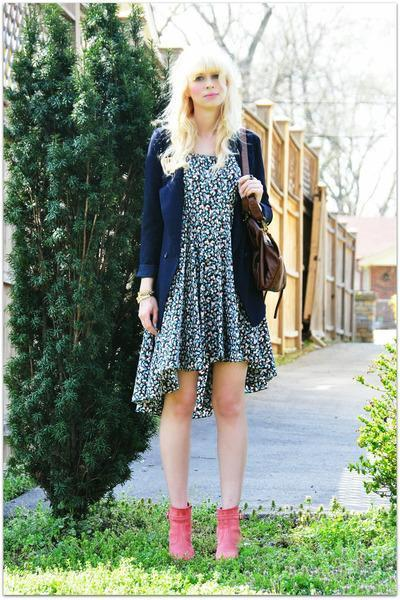bag: (255, 228, 286, 299)
dress: (131, 144, 275, 414)
jacket: (135, 130, 272, 323)
shoe: (167, 502, 243, 559)
